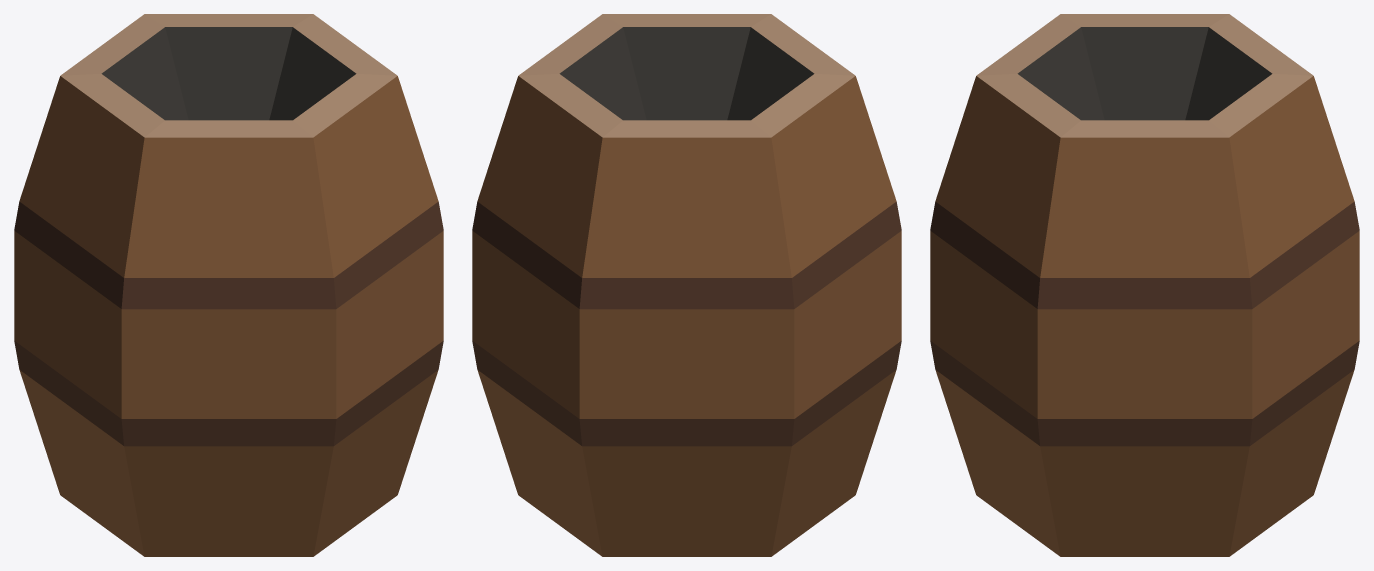
Rendered from TB_D_Prop_Barrel_Open_B.FBX.
The picture shows the model from 3 angles, left to right: view 1: azimuth 30°, elevation 25°; view 2: azimuth 150°, elevation 25°; view 3: azimuth 270°, elevation 25°; orthographic projection.
Visible parts, largest first — view 1: TB_D_Prop_Barrel_Open_B; view 2: TB_D_Prop_Barrel_Open_B; view 3: TB_D_Prop_Barrel_Open_B.
Part boxes in pixels (bbox=[...]): TB_D_Prop_Barrel_Open_B: bbox=[14, 14, 443, 556]; TB_D_Prop_Barrel_Open_B: bbox=[472, 14, 901, 556]; TB_D_Prop_Barrel_Open_B: bbox=[930, 14, 1359, 556].
Bounding box in the file's own units: 0.9026 × 1.13 × 1.04.
